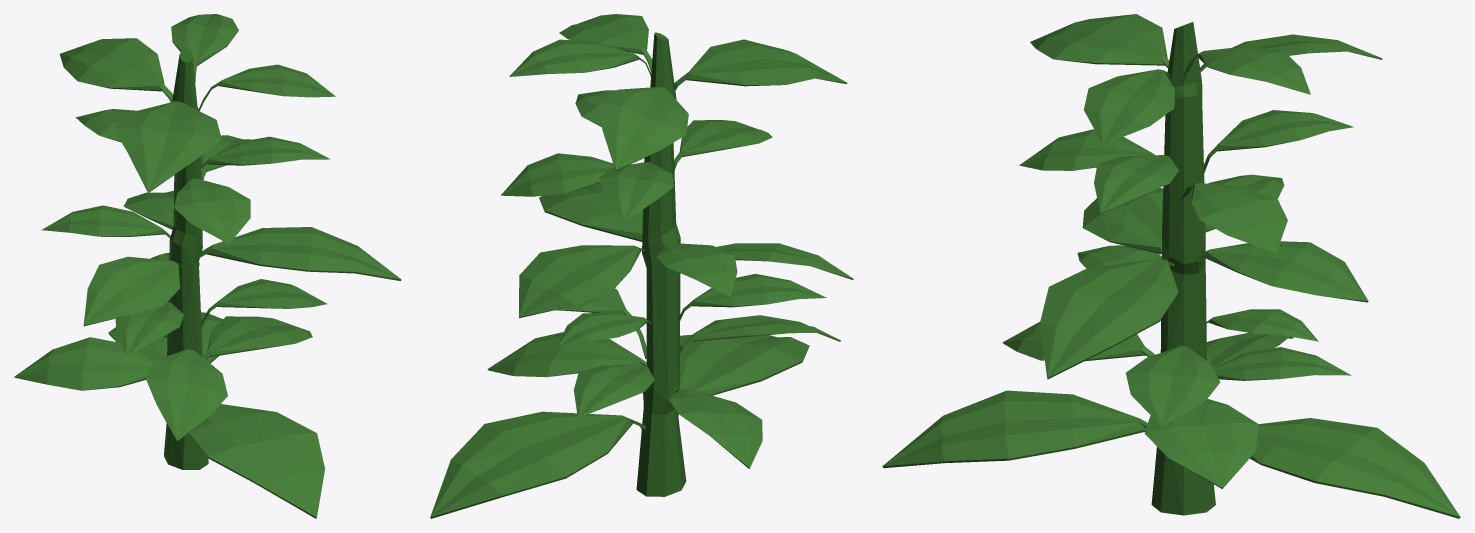
The model's file is plant02.fbx.
3 views of the same model, side by side, from view 1: azimuth 30°, elevation 25°; view 2: azimuth 150°, elevation 25°; view 3: azimuth 270°, elevation 25° (orthographic). The views are drawn at different scales.
Visible parts, largest first — view 1: plant02; view 2: plant02; view 3: plant02.
Part boxes in pixels (x1,y1,x2,y2): plant02: (14, 14, 401, 518); plant02: (430, 14, 853, 518); plant02: (882, 14, 1460, 518).
Size of the model in its own units: 230 by 303 by 328.
